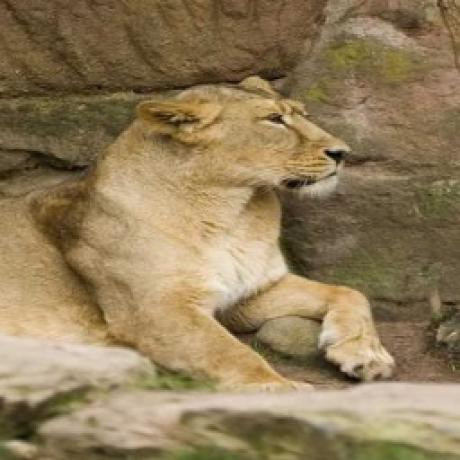Lion: (0, 70, 410, 395)
